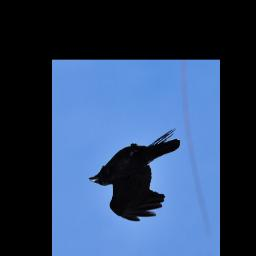Crow: (86, 125, 187, 232)
